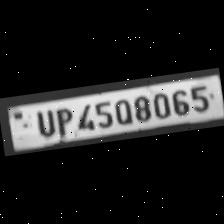0: (149, 89, 172, 119)
4: (72, 101, 97, 133)
5: (186, 82, 214, 114), (90, 98, 113, 129)
6: (168, 86, 190, 116)
8: (129, 93, 152, 123)
P: (52, 104, 76, 136)
Q: (110, 96, 134, 126)
U: (30, 106, 57, 138)
